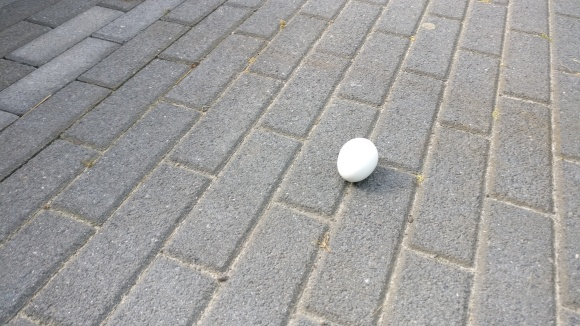egg: (336, 137, 379, 184)
